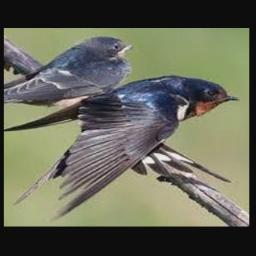Swallow: (4, 75, 240, 220), (4, 36, 131, 102)
